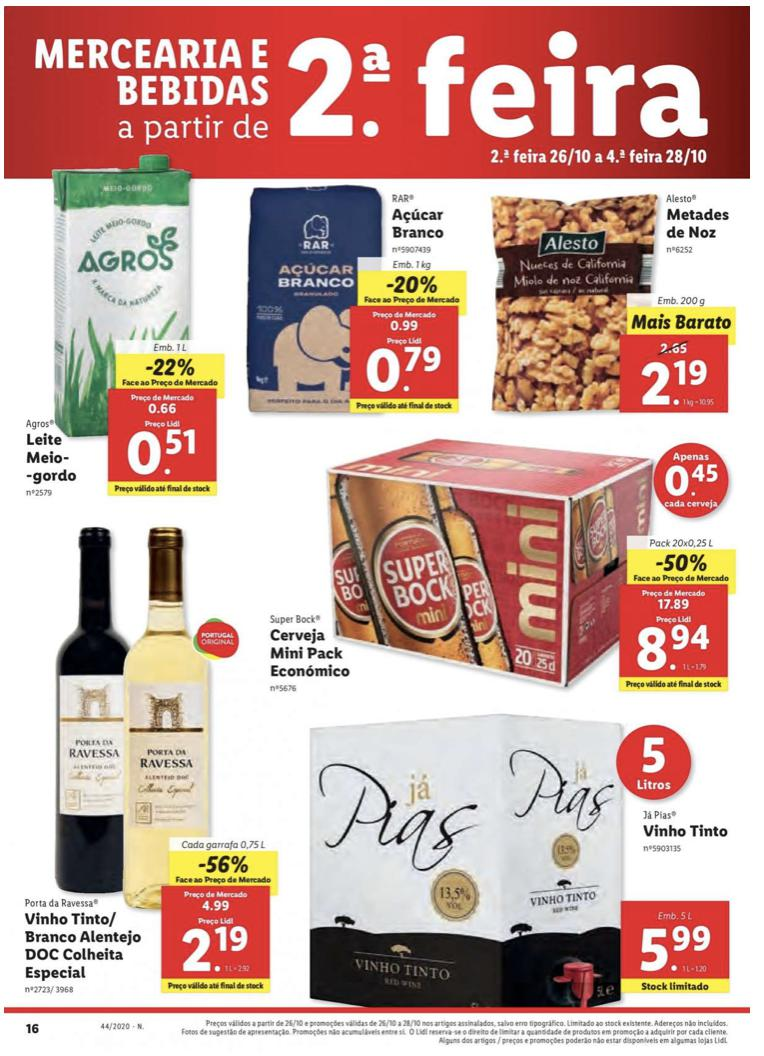name: (20, 908, 145, 984), (263, 627, 357, 683), (21, 429, 82, 487), (663, 205, 736, 244), (638, 819, 736, 844), (388, 207, 453, 244)
price: (362, 334, 444, 400), (634, 615, 716, 679), (634, 921, 724, 979), (126, 417, 203, 482), (637, 354, 724, 411), (182, 916, 254, 979)
product: (251, 417, 751, 707), (284, 708, 741, 1004), (12, 520, 278, 1005), (4, 145, 232, 511), (479, 170, 758, 420), (241, 167, 479, 420)
promotion: (384, 271, 442, 299), (142, 354, 197, 380), (197, 853, 253, 877), (655, 552, 711, 574)
